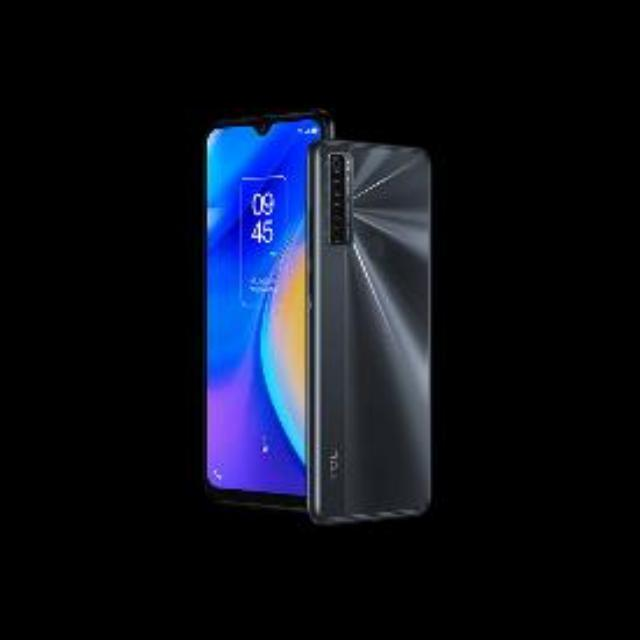Phone: (314, 136, 436, 524), (204, 111, 308, 513)
